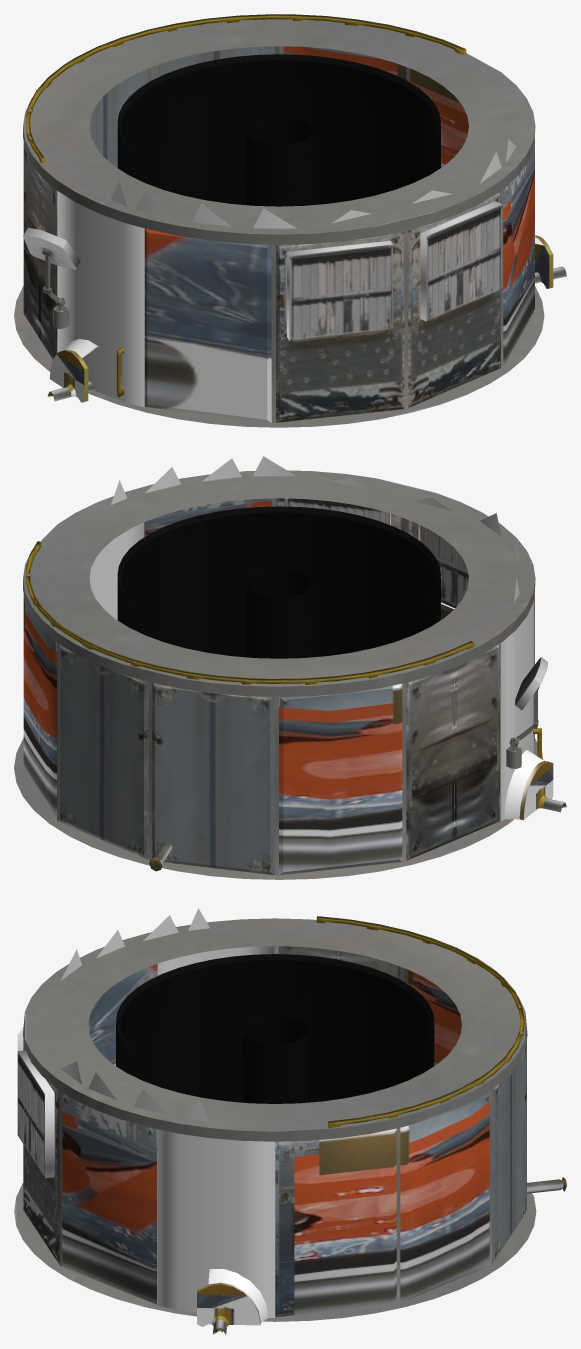
Rendered from hubble-equipment-section.glb.
3 views of the same model, one above another, from view 1: azimuth 30°, elevation 25°; view 2: azimuth 150°, elevation 25°; view 3: azimuth 270°, elevation 25° (orthographic).
Parts seen in each view (by area): view 1: equipment-section; view 2: equipment-section; view 3: equipment-section.
Part boxes in pixels (box(x1,y1,x2,y2)): equipment-section: box(14, 14, 566, 427); equipment-section: box(14, 456, 566, 879); equipment-section: box(14, 908, 566, 1334).
Bounding box in the file's own units: 4.72 × 1.89 × 4.45.
Materials: 1 (1 with a texture image).
